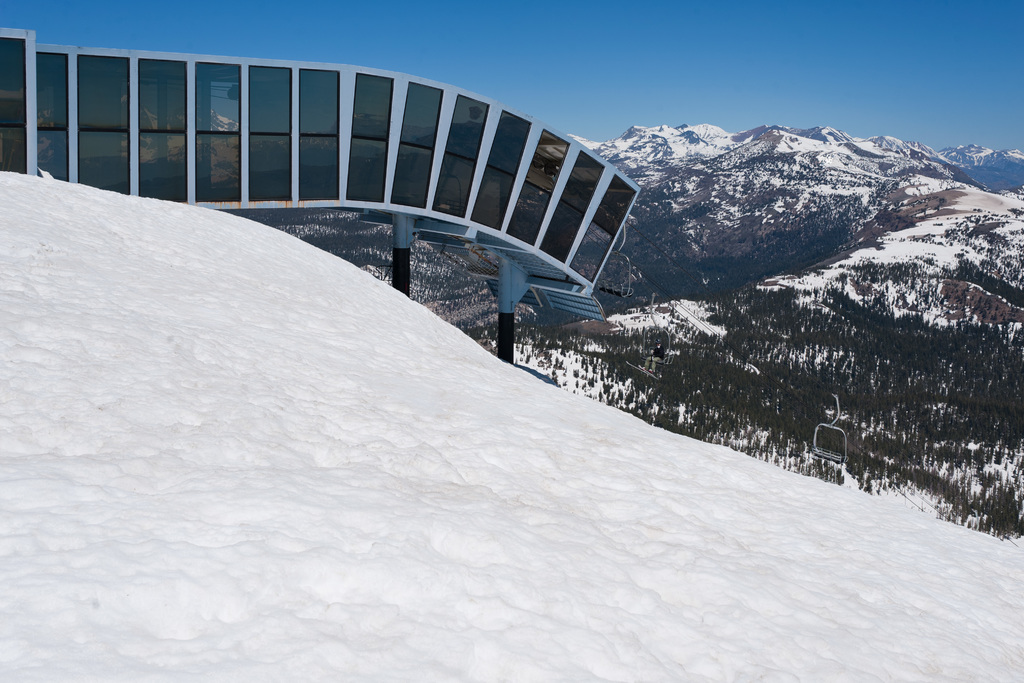Tree: (282, 150, 1023, 534), (1018, 512, 1023, 534)
